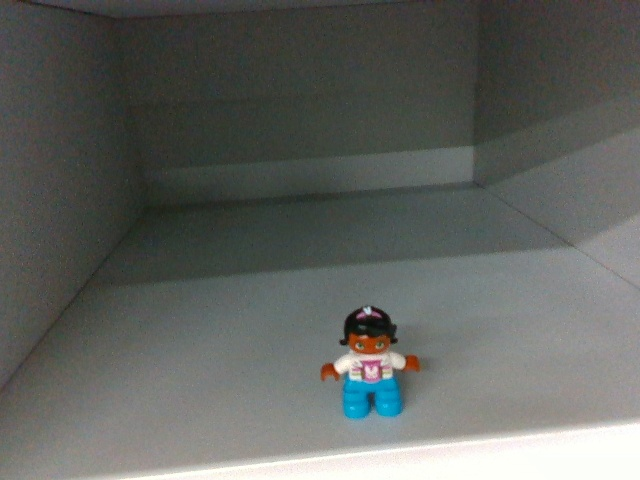people: (321, 301, 424, 420)
